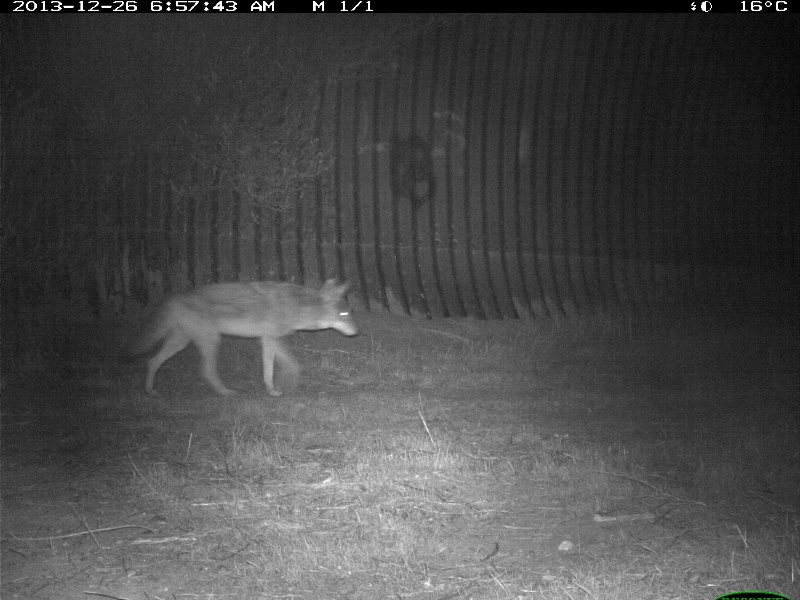coyote: (125, 273, 360, 401)
